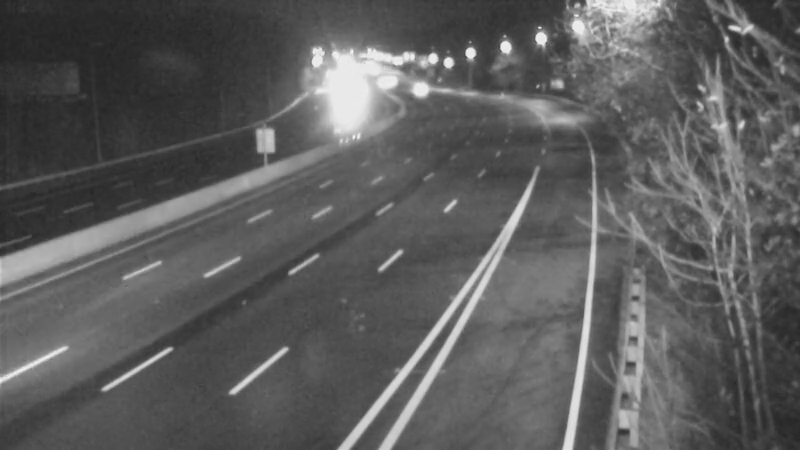vehicle: (397, 68, 447, 118), (321, 84, 371, 134)
